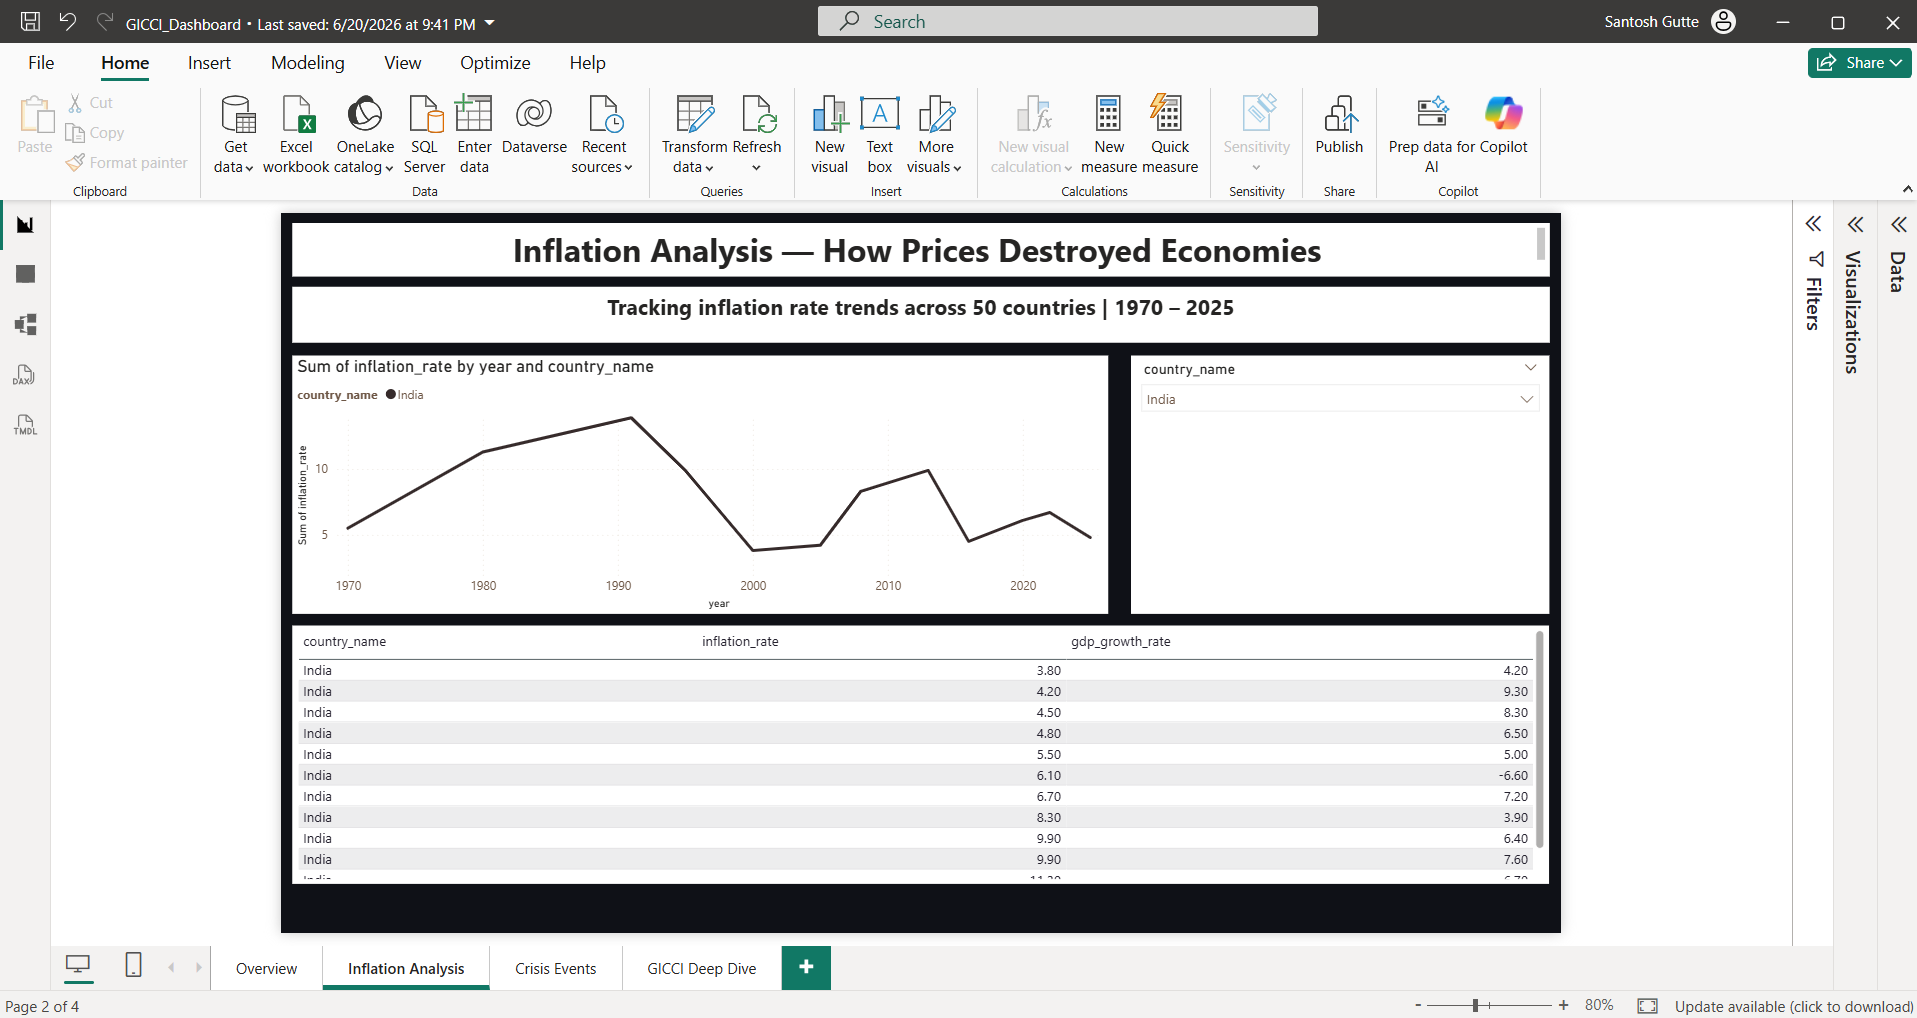

The dashboard page shown, as its layout file describes it:
{"tool":"powerbi","page":{"name":" Inflation Analysis","canvas":[1280,720],"ordinal":1},"visuals":[{"type":"textbox","box":[11.2,10,1257.5,53.8],"z":0},{"type":"textbox","box":[11.2,73.8,1257.5,56.2],"z":1000},{"type":"lineChart","fields":{"Y":["Sum(gicci_db economic_indicators.inflation_rate)"],"Category":["gicci_db economic_indicators.year"],"Series":["gicci_db countries.country_name"]},"box":[11.2,142.5,816.2,258.8],"z":2000},{"type":"slicer","fields":{"Values":["gicci_db countries.country_name"]},"box":[850,142.5,418.8,258.8],"z":3000},{"type":"tableEx","fields":{"Values":["gicci_db countries.country_name","gicci_db economic_indicators.inflation_rate","gicci_db economic_indicators.gdp_growth_rate"]},"box":[11.4,412.9,1257.1,258.6],"z":4000}]}

Visuals, with their boxes on the page's 1280x720 design canvas (x1, y1, x2, y2). These are canvas units, not pixel positions in the 1917x1018 screenshot, which may show the page scaled, cropped or inside an application window:
textbox: box(11, 10, 1269, 64)
textbox: box(11, 74, 1269, 130)
lineChart - Sum(gicci_db economic_indicators.inflation_rate) x gicci_db economic_indicators.year: box(11, 142, 827, 401)
slicer - gicci_db countries.country_name: box(850, 142, 1269, 401)
tableEx - gicci_db countries.country_name x gicci_db economic_indicators.inflation_rate: box(11, 413, 1268, 672)
